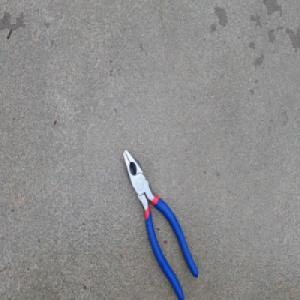Pliers: (121, 148, 199, 300)
